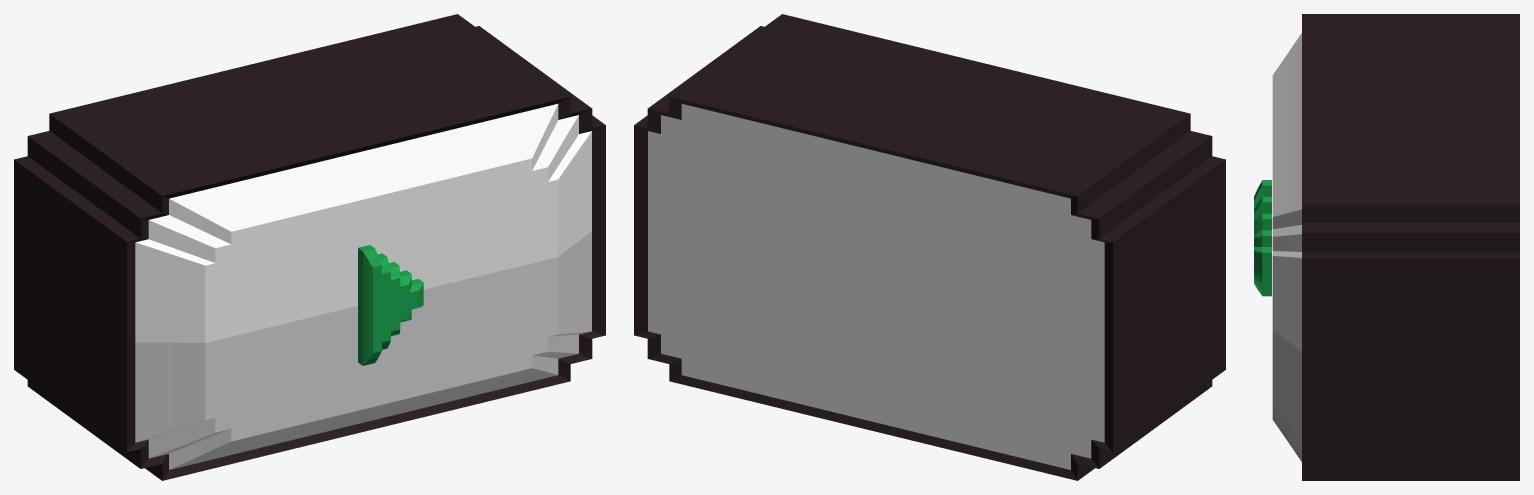
Rendered from Boton_iniciar_juego.fbx.
3 renders of one model, left to right at view 1: azimuth 30°, elevation 25°; view 2: azimuth 150°, elevation 25°; view 3: azimuth 270°, elevation 25°, orthographic. The views are drawn at different scales.
Visible parts, largest first — view 1: boton; view 2: boton; view 3: boton.
Part boxes in pixels (box(x1,y1,x2,y2)): boton: box(14, 14, 605, 480); boton: box(634, 14, 1225, 480); boton: box(1254, 14, 1519, 480).
Size of the model in its own units: 521 by 296 by 260.
